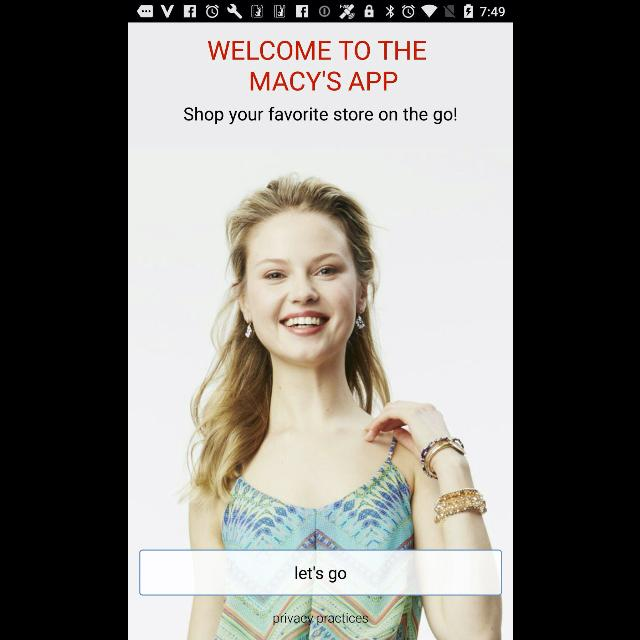backgroundimage: (128, 22, 512, 640)
text: (207, 40, 426, 91), (184, 107, 456, 125), (272, 613, 368, 625)
textbutton: (138, 548, 502, 596)
uppertaskbar: (128, 1, 512, 23)
